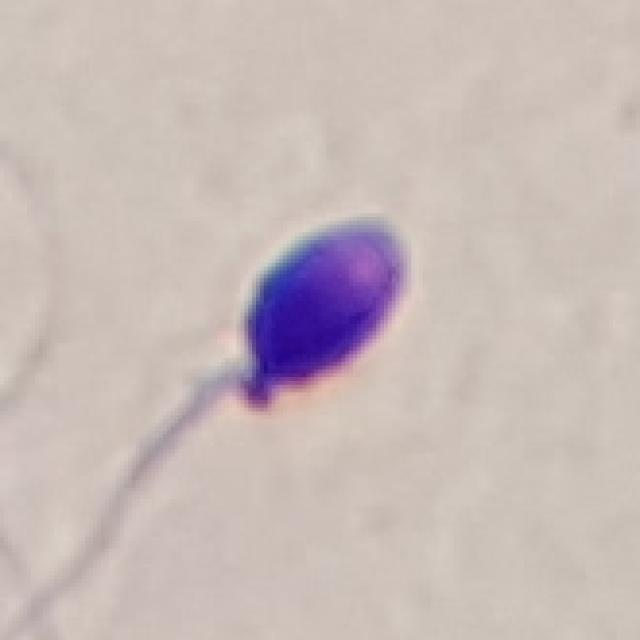normal sperm: (165, 216, 408, 442)
